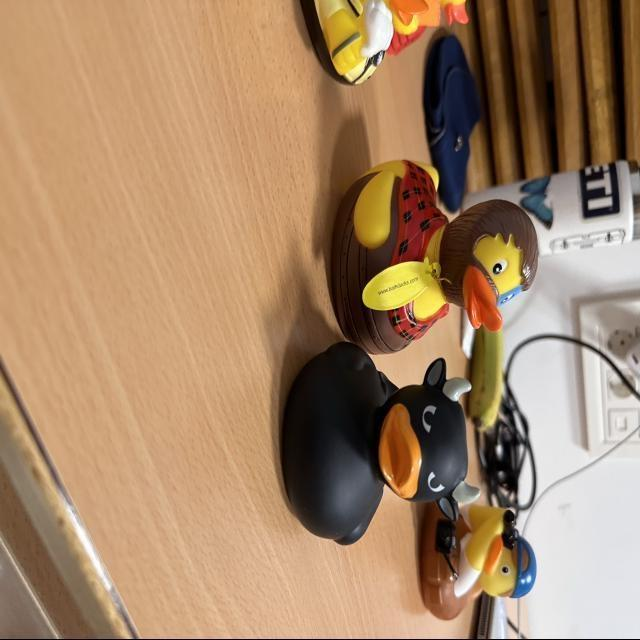rubber-duck: (330, 160, 536, 352), (281, 341, 468, 542), (419, 500, 534, 617)
